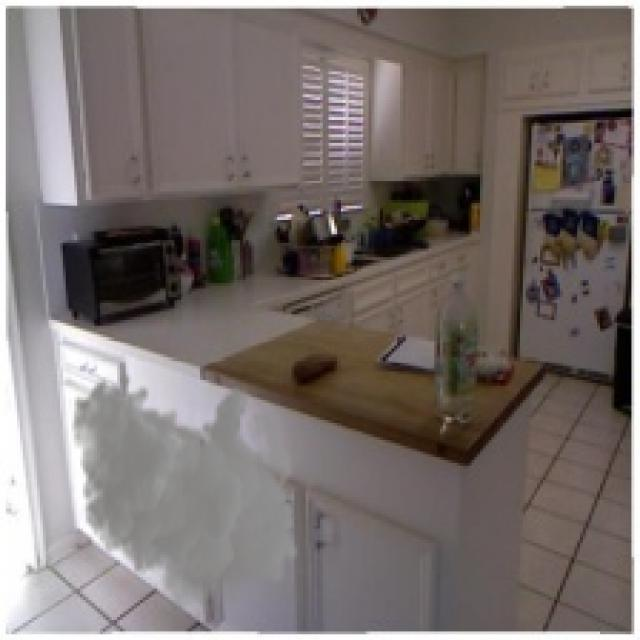Smoke: (71, 371, 300, 620)
